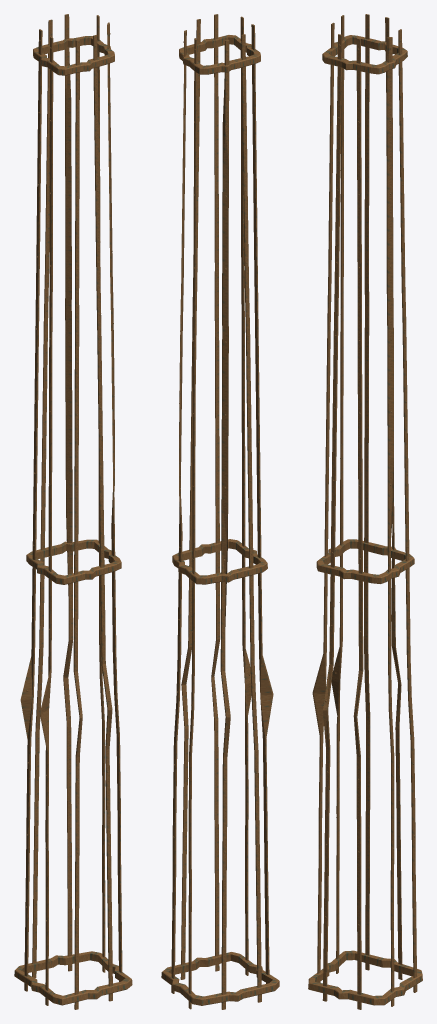
The model's file is PivotBindings.fbx.
The picture shows the model from 3 angles, left to right: view 1: azimuth 30°, elevation 25°; view 2: azimuth 210°, elevation 25°; view 3: azimuth 330°, elevation 25°; orthographic projection.
Visible parts, largest first — view 1: PivotBindings_LOD0; view 2: PivotBindings_LOD0; view 3: PivotBindings_LOD0.
Boxes of the visible parts, x1=… form: PivotBindings_LOD0: x1=14, y1=14, x2=132, y2=1009; PivotBindings_LOD0: x1=161, y1=14, x2=279, y2=1009; PivotBindings_LOD0: x1=308, y1=14, x2=422, y2=1009.
Size of what is drawn, in the model's own units: 3.96 by 41.6 by 3.83.
1 material, 1 textured.
